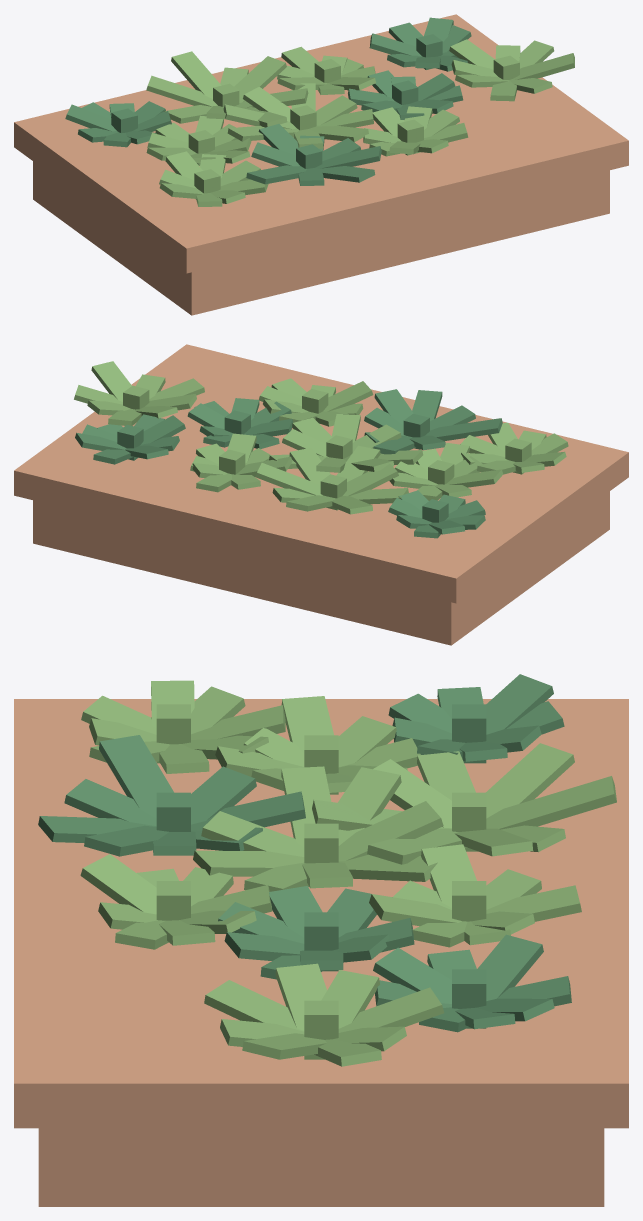
Rendered from botanical-glasshouse-and-palm-house-botanical-glasshou-ab30df85__38587.glb.
3 views of the same model, one above another, from view 1: azimuth 30°, elevation 25°; view 2: azimuth 150°, elevation 25°; view 3: azimuth 270°, elevation 25° (orthographic). The views are drawn at different scales.
Visible parts, largest first — view 1: botanical-glasshouse-and-palm-house-succulent-tray; view 2: botanical-glasshouse-and-palm-house-succulent-tray; view 3: botanical-glasshouse-and-palm-house-succulent-tray.
Part boxes in pixels (left/top/right/bottom): botanical-glasshouse-and-palm-house-succulent-tray: left=14, top=14, right=628, bottom=315; botanical-glasshouse-and-palm-house-succulent-tray: left=14, top=344, right=628, bottom=645; botanical-glasshouse-and-palm-house-succulent-tray: left=14, top=674, right=628, bottom=1206.
Bounding box in the file's own units: 0.7745 × 0.1704 × 0.5.
